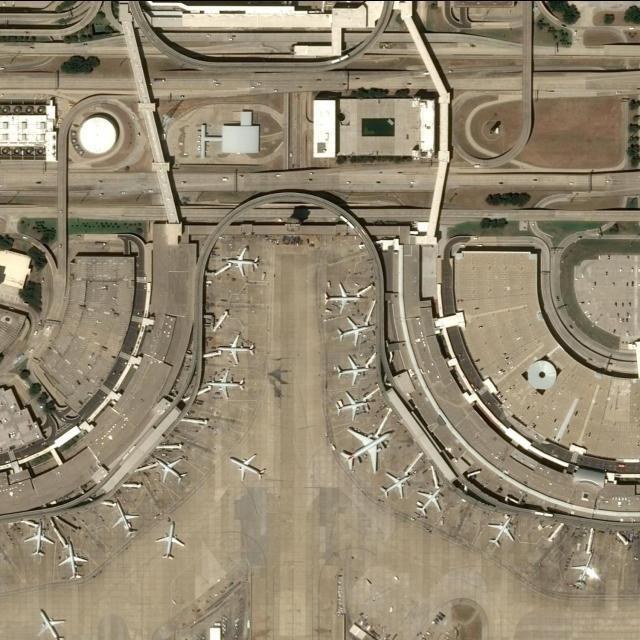Aircraft: (342, 424, 396, 471), (156, 520, 190, 562), (572, 550, 604, 590), (61, 537, 91, 579), (324, 278, 360, 312), (209, 367, 247, 399), (228, 451, 268, 481), (218, 332, 257, 362), (25, 520, 57, 556), (227, 244, 263, 276), (113, 497, 141, 538), (334, 353, 371, 383), (381, 466, 415, 498), (34, 608, 69, 639), (336, 315, 370, 345), (416, 485, 448, 515), (337, 391, 371, 419), (488, 516, 517, 546), (158, 455, 188, 483)
